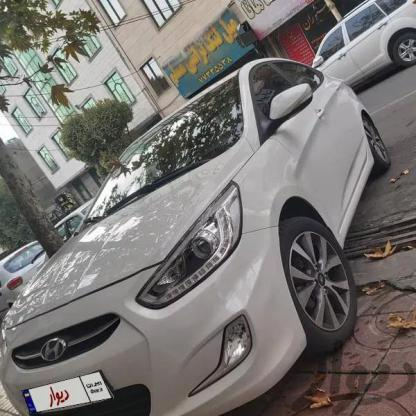Car: (0, 51, 404, 416), (301, 0, 416, 96), (0, 231, 67, 312)
